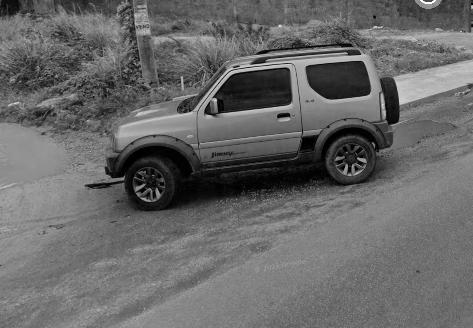car: (102, 40, 401, 211)
